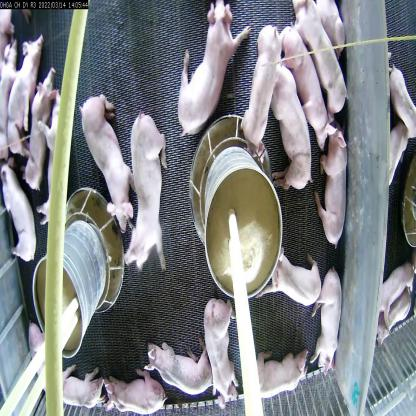Pig: (175, 1, 252, 131), (77, 92, 132, 235), (120, 116, 168, 270), (290, 0, 348, 116), (279, 30, 337, 146), (36, 96, 77, 238), (270, 55, 311, 196), (21, 59, 64, 193), (240, 22, 282, 146), (266, 232, 323, 312), (316, 128, 351, 253), (4, 155, 44, 264), (145, 342, 218, 399), (207, 290, 242, 408), (8, 36, 42, 154), (314, 263, 346, 374), (248, 352, 310, 408), (99, 375, 170, 415), (56, 363, 112, 406)
